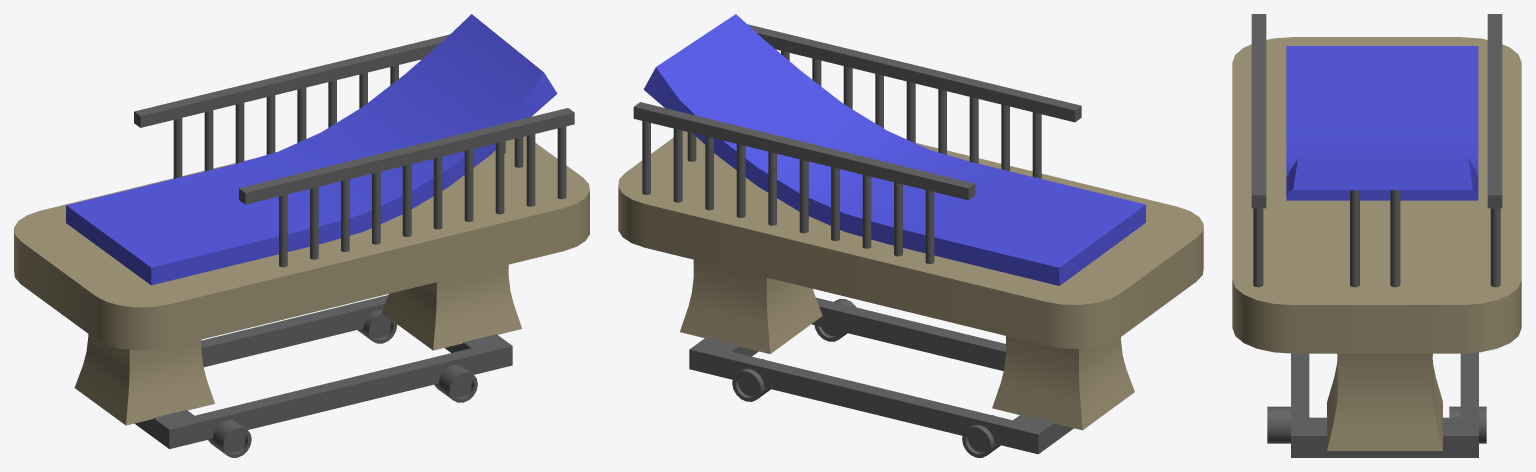
The model's file is HospitalBed.fbx.
3 views of the same model, side by side, from view 1: azimuth 30°, elevation 25°; view 2: azimuth 150°, elevation 25°; view 3: azimuth 270°, elevation 25° (orthographic). The views are drawn at different scales.
Parts seen in each view (by area): view 1: Cube, Cube.001, Cube.002, Cube.003, Cube.005, Cylinder, Cube.004; view 2: Cube, Cube.001, Cube.002, Cube.003, Cube.005, Cylinder, Cube.004; view 3: Cube, Cube.001, Cube.002, Cube.003, Cube.005, Cylinder.001, Cylinder, Cube.004.
Boxes of the visible parts, x1,y1,x2,y2 form: Cube: (14, 136, 589, 350); Cube.001: (66, 14, 557, 285); Cube.002: (74, 264, 521, 425); Cube.003: (134, 295, 512, 448); Cube.005: (134, 34, 574, 204); Cylinder: (173, 59, 566, 267); Cube.004: (208, 309, 477, 457); Cube: (618, 131, 1203, 348); Cube.001: (643, 14, 1145, 285); Cube.002: (680, 260, 1134, 430); Cube.003: (689, 297, 1073, 454); Cube.005: (633, 24, 1081, 200); Cylinder: (642, 51, 1041, 263); Cube.004: (732, 299, 1000, 457); Cube: (1232, 37, 1521, 353); Cube.001: (1286, 46, 1478, 200); Cube.002: (1327, 353, 1442, 450); Cube.003: (1291, 352, 1478, 457); Cube.005: (1251, 14, 1502, 208); Cylinder.001: (1350, 190, 1400, 287); Cylinder: (1253, 208, 1500, 287); Cube.004: (1267, 406, 1486, 443).
Bounding box in the file's own units: 200 × 118 × 91.21.
